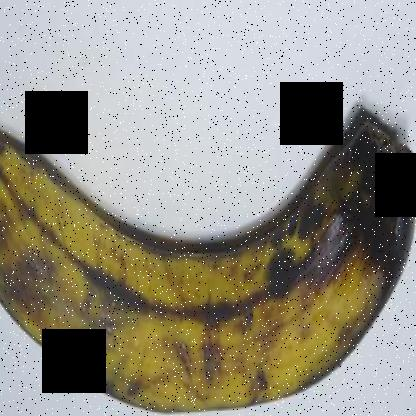overripe: (0, 106, 415, 415)
rotten: (302, 68, 416, 308)
